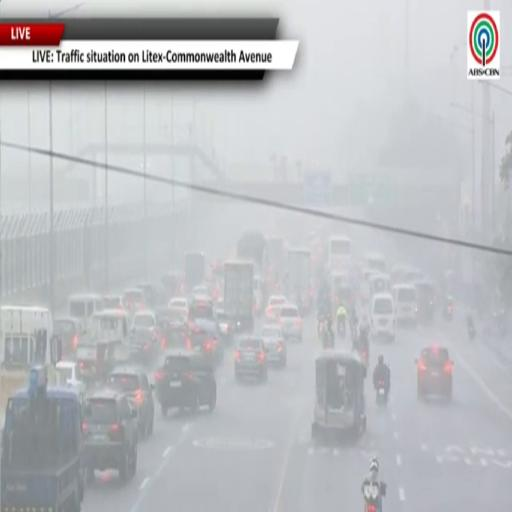bus: (328, 236, 351, 270)
car: (82, 389, 138, 483), (155, 349, 216, 415), (107, 367, 154, 437), (415, 346, 453, 398), (235, 336, 267, 381), (193, 319, 223, 364), (56, 360, 85, 402), (54, 317, 86, 355), (370, 293, 395, 341), (187, 326, 217, 365), (261, 325, 287, 366), (130, 330, 160, 365), (393, 284, 417, 326), (132, 310, 160, 341), (279, 304, 302, 341), (162, 322, 191, 349), (188, 296, 214, 323), (216, 310, 234, 345), (137, 283, 161, 307), (161, 271, 184, 296), (122, 288, 146, 311), (266, 296, 287, 322), (168, 297, 188, 317), (102, 295, 122, 309), (192, 284, 211, 298)
motorcycle: (363, 483, 386, 511), (376, 380, 387, 405), (322, 333, 334, 349), (444, 304, 453, 321), (337, 320, 345, 339), (468, 326, 476, 341)
truck: (0, 365, 84, 511), (0, 306, 61, 412), (77, 310, 131, 382), (224, 261, 254, 331), (286, 249, 314, 314), (237, 231, 268, 284), (267, 237, 285, 294), (185, 252, 205, 292)
